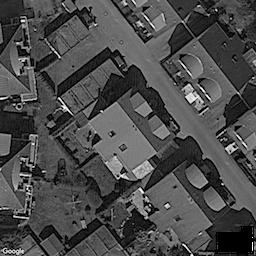roofs: (144, 159, 230, 243), (89, 85, 172, 172), (172, 23, 256, 108), (0, 23, 37, 101), (124, 1, 200, 38), (1, 134, 32, 212), (228, 109, 256, 170)
